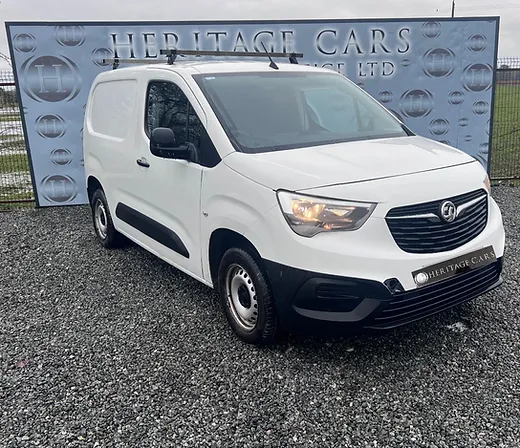car: (77, 46, 508, 347)
